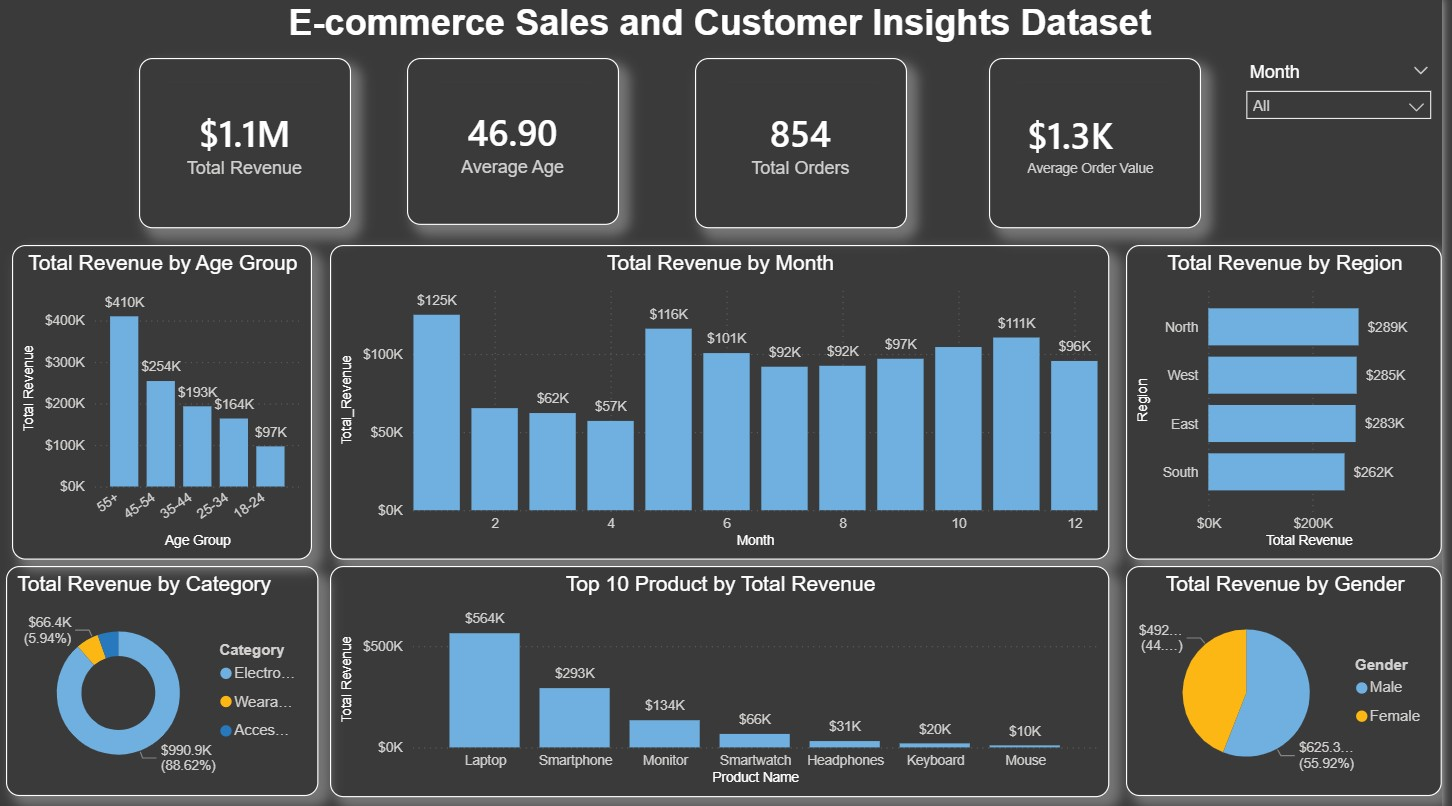

What the dashboard file says about the page in this screenshot:
{"tool":"powerbi","page":{"name":"Page 1","canvas":[1280,720],"ordinal":0},"visuals":[{"type":"textbox","box":[246.1,0,786.9,53.5],"z":0},{"type":"clusteredColumnChart","title":"Total Revenue by Month","fields":{"Y":["realistic_e_commerce_sales_data.Total_Revenue"],"Category":["realistic_e_commerce_sales_data.Month"]},"box":[294.7,219.8,690.6,279.1],"z":1},{"type":"cardVisual","fields":{"Data":["realistic_e_commerce_sales_data.Total_Revenue"]},"box":[125,54.1,188,150.7],"z":2},{"type":"slicer","fields":{"Values":["realistic_e_commerce_sales_data.Month"]},"box":[1096.8,53.2,183.5,74.5],"z":3},{"type":"columnChart","title":"Top 10 Product by Total Revenue","fields":{"Category":["realistic_e_commerce_sales_data.Product Name"],"Y":["realistic_e_commerce_sales_data.Total_Revenue"]},"box":[294.4,504.5,690.7,204.8],"z":4},{"type":"barChart","title":"Total Revenue by Region","fields":{"Category":["realistic_e_commerce_sales_data.Region"],"Y":["realistic_e_commerce_sales_data.Total_Revenue"]},"box":[999.9,219.8,280.1,279.1],"z":5},{"type":"donutChart","fields":{"Category":["realistic_e_commerce_sales_data.Category"],"Y":["realistic_e_commerce_sales_data.Total_Revenue"]},"box":[6.8,504.8,277.2,204.3],"z":6},{"type":"pieChart","fields":{"Category":["realistic_e_commerce_sales_data.Gender"],"Y":["realistic_e_commerce_sales_data.Total_Revenue"]},"box":[999.9,504.8,280.1,204.3],"z":7},{"type":"columnChart","fields":{"Category":["realistic_e_commerce_sales_data.AgeGroup"],"Y":["realistic_e_commerce_sales_data.Total_Revenue"]},"box":[12.6,219.8,265.5,279.1],"z":8},{"type":"cardVisual","fields":{"Data":["realistic_e_commerce_sales_data.Average_Age"]},"box":[362.7,54.1,188,148.1],"z":9},{"type":"cardVisual","fields":{"Data":["realistic_e_commerce_sales_data.Total Orders"]},"box":[618,54.1,188,150.7],"z":10},{"type":"cardVisual","fields":{"Data":["realistic_e_commerce_sales_data.Avera_Order_Value"]},"box":[878.7,54.1,188,150.7],"z":11}]}

Visuals, with their boxes in screenshot pixels (x1, y1, x2, y2), scaled from the page's 1280x720 canvas onto the 1452x806 screenshot:
textbox: box=[279, 0, 1172, 60]
"Total Revenue by Month" clusteredColumnChart: box=[334, 246, 1118, 558]
cardVisual - realistic_e_commerce_sales_data.Total_Revenue: box=[142, 61, 355, 229]
slicer - realistic_e_commerce_sales_data.Month: box=[1244, 60, 1451, 143]
"Top 10 Product by Total Revenue" columnChart: box=[334, 565, 1117, 794]
"Total Revenue by Region" barChart: box=[1134, 246, 1451, 558]
donutChart - realistic_e_commerce_sales_data.Category x realistic_e_commerce_sales_data.Total_Revenue: box=[8, 565, 322, 794]
pieChart - realistic_e_commerce_sales_data.Gender x realistic_e_commerce_sales_data.Total_Revenue: box=[1134, 565, 1451, 794]
columnChart - realistic_e_commerce_sales_data.AgeGroup x realistic_e_commerce_sales_data.Total_Revenue: box=[14, 246, 315, 558]
cardVisual - realistic_e_commerce_sales_data.Average_Age: box=[411, 61, 625, 226]
cardVisual - realistic_e_commerce_sales_data.Total Orders: box=[701, 61, 914, 229]
cardVisual - realistic_e_commerce_sales_data.Avera_Order_Value: box=[997, 61, 1210, 229]
